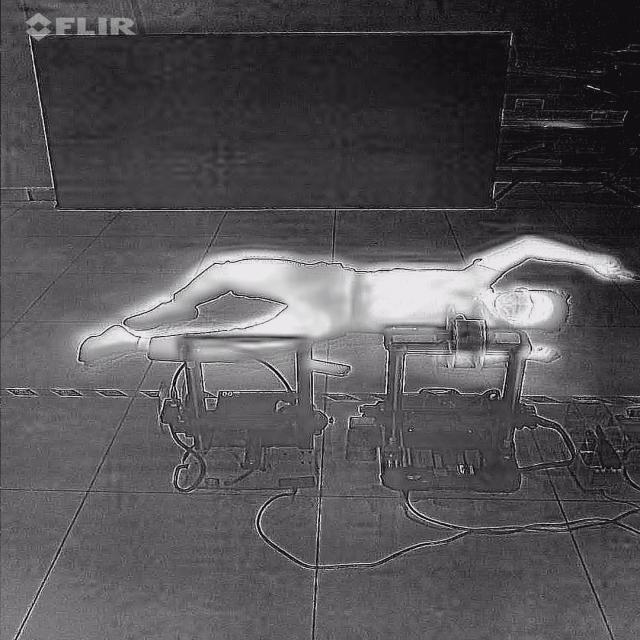Victim: (71, 228, 636, 374)
